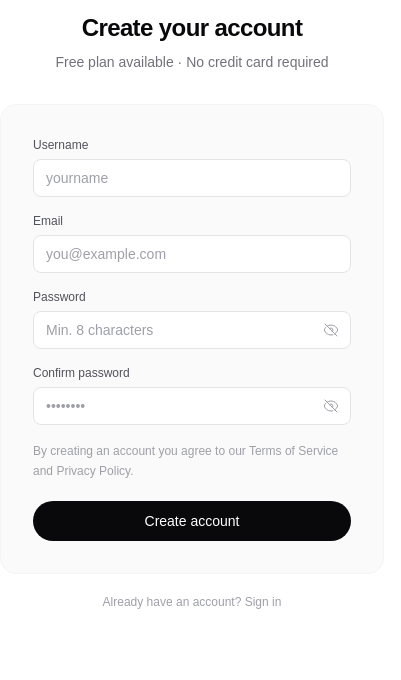
Test case: RegisterForm › client-side validation › shows an error when username is shorter than 3 characters
The width and height of the screenshot is (401, 680).
Type "ab" into the field labelled "Username".
click(192, 178); type("ab")  # box [33, 159, 351, 197]
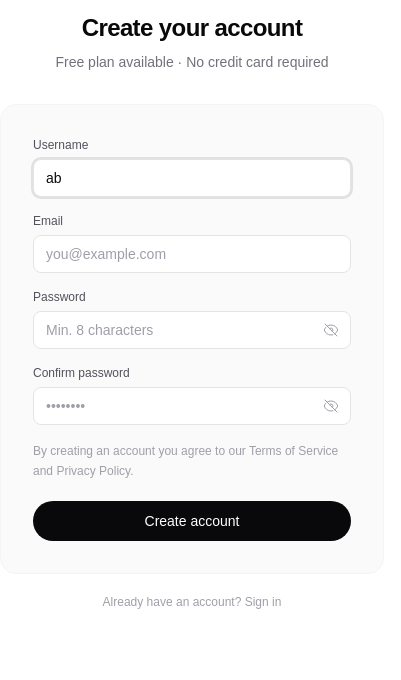
Type "test@example.com" into the field labelled "Email".
click(192, 254); type("test@example.com")  # box [33, 235, 351, 273]
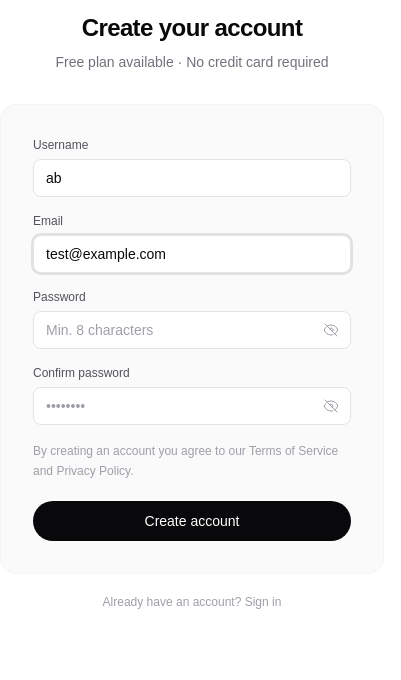
Type "password123" into the password field labelled "Password".
click(192, 330); type("password123")  # box [33, 311, 351, 349]
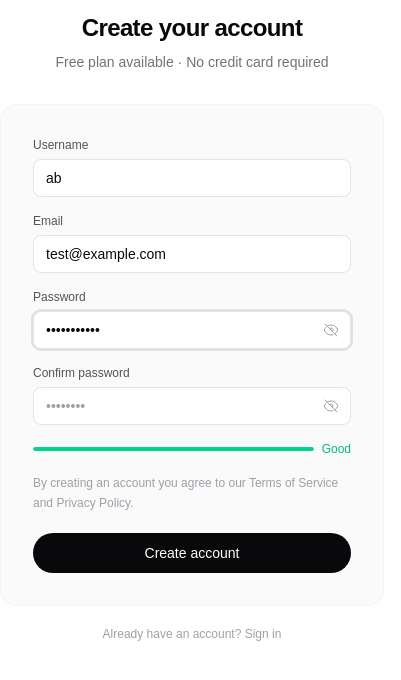
Type "password123" into the password field labelled "Confirm password".
click(192, 406); type("password123")  # box [33, 387, 351, 425]
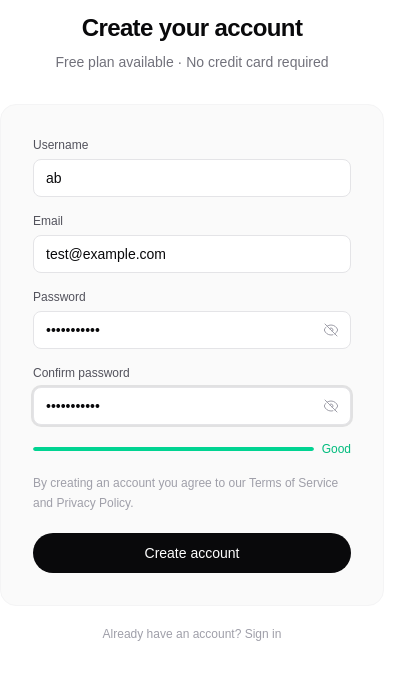
Click the button "Create account".
click(192, 553)  # box [33, 533, 351, 573]
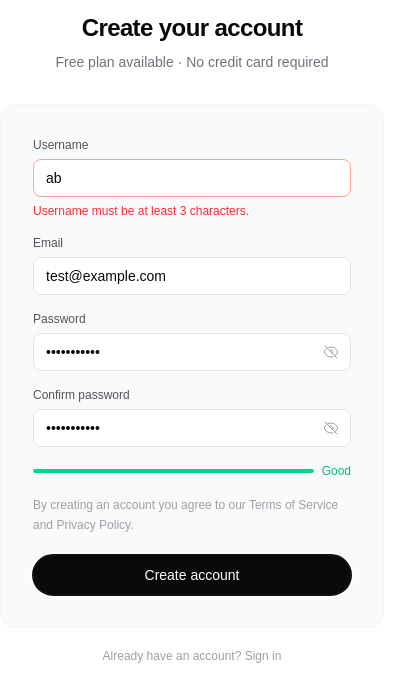
Expected: the text "Username must be at least 3 characters." is shown, [33, 204, 249, 218]
